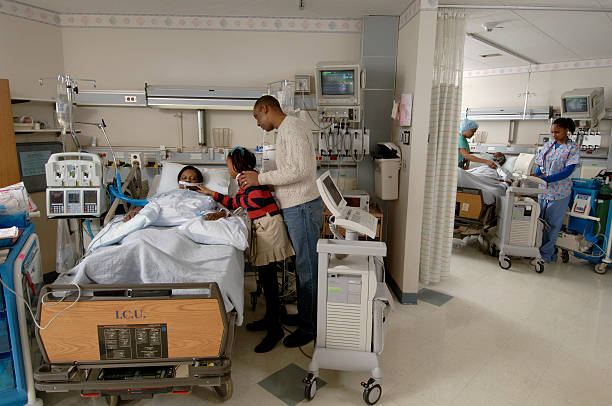bedside_monitor: (314, 56, 368, 106), (560, 86, 606, 126)
breathing_tube: (85, 171, 149, 241)
curtain: (418, 2, 469, 286)
foot_board: (40, 282, 227, 394), (447, 183, 486, 218)
hospital_bed: (33, 151, 249, 406)
infusion_pump: (46, 151, 107, 219)
iv_pole: (40, 66, 95, 275)
medical_drawer: (1, 176, 34, 400)
patient: (119, 166, 231, 285)
staff: (531, 118, 578, 266), (458, 118, 498, 171)
visitor: (239, 91, 326, 350), (197, 146, 294, 354)
waste_bin: (375, 144, 403, 207)
